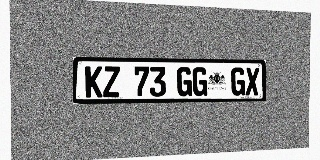3: (150, 67, 166, 97)
7: (133, 66, 149, 97)
G: (177, 67, 192, 96), (192, 67, 207, 96), (231, 67, 245, 96)
K: (85, 66, 102, 98)
X: (245, 68, 259, 96)
Z: (103, 66, 120, 97)
